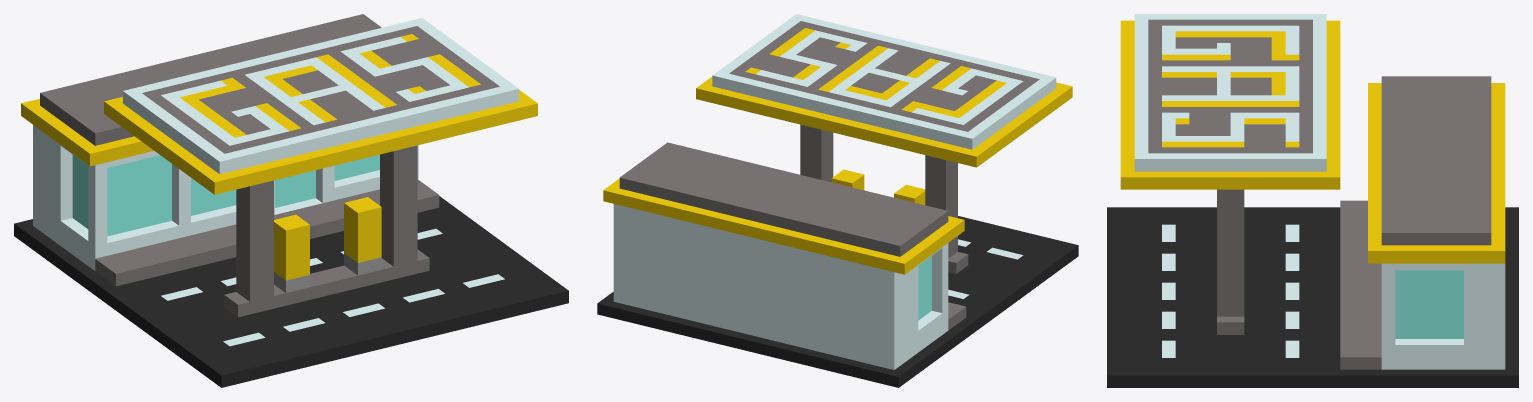
Rendered from gasstation.obj.
The picture shows the model from 3 angles, left to right: view 1: azimuth 30°, elevation 25°; view 2: azimuth 150°, elevation 25°; view 3: azimuth 270°, elevation 25°; orthographic projection. The views are drawn at different scales.
Size of the model in its own units: 29 by 17 by 30.
1 material, 1 textured.
